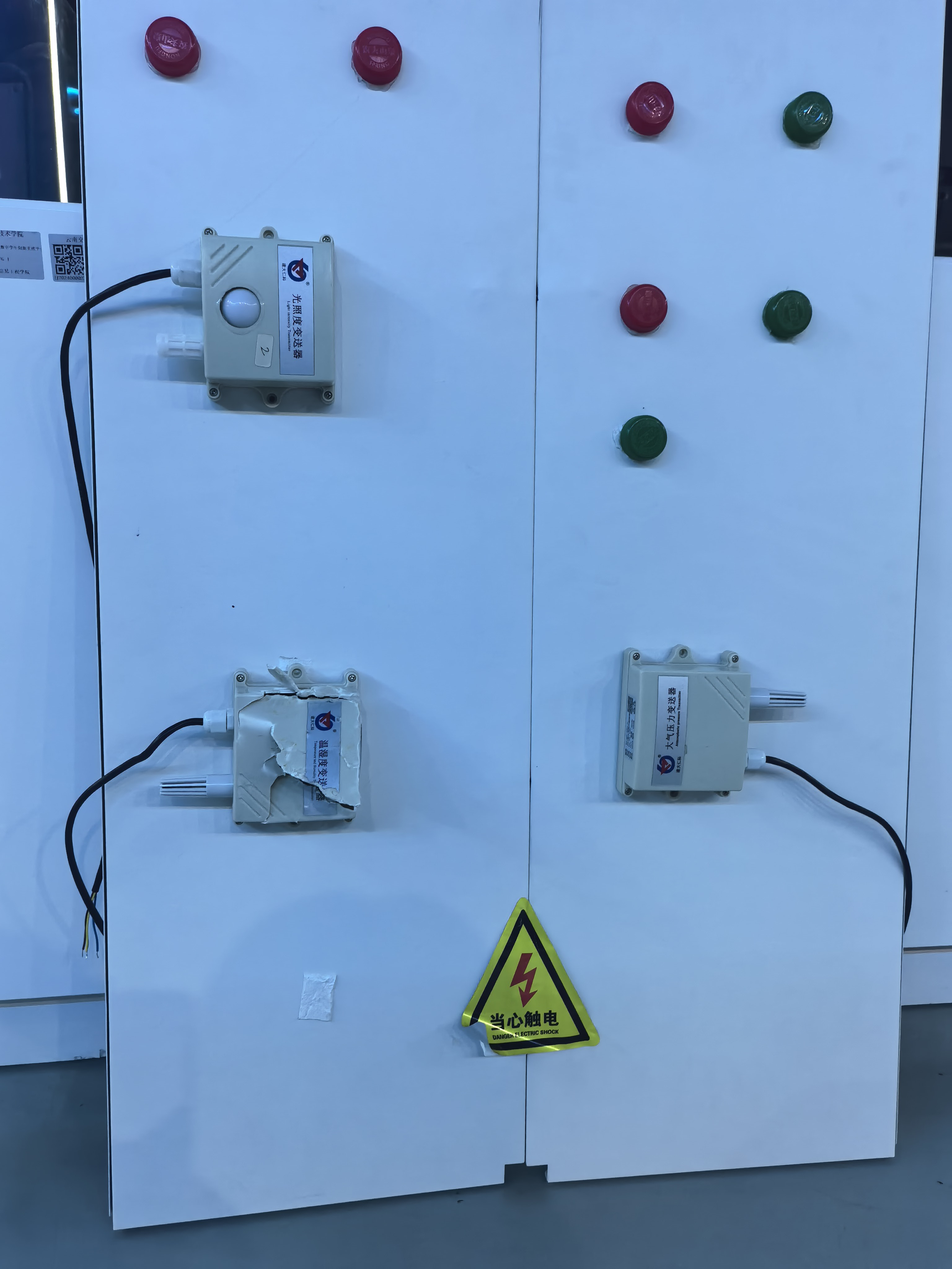red_warning: (323, 11, 443, 87), (121, 1, 221, 89), (607, 264, 712, 340), (605, 63, 684, 135)
sensor_damage: (135, 645, 399, 853)
